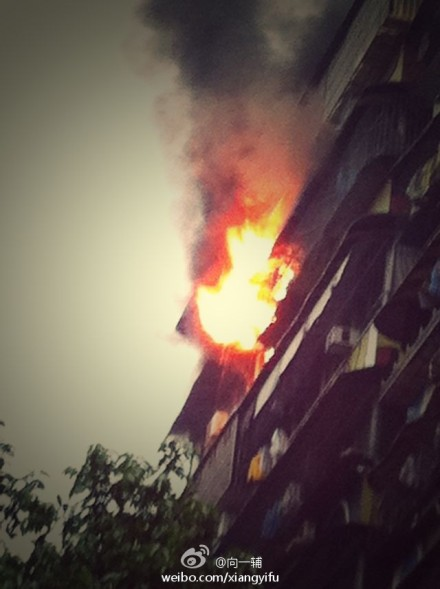fire: (196, 184, 293, 346)
